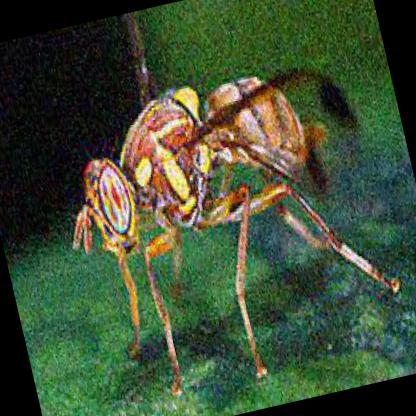fruit fly: (72, 21, 397, 376)
